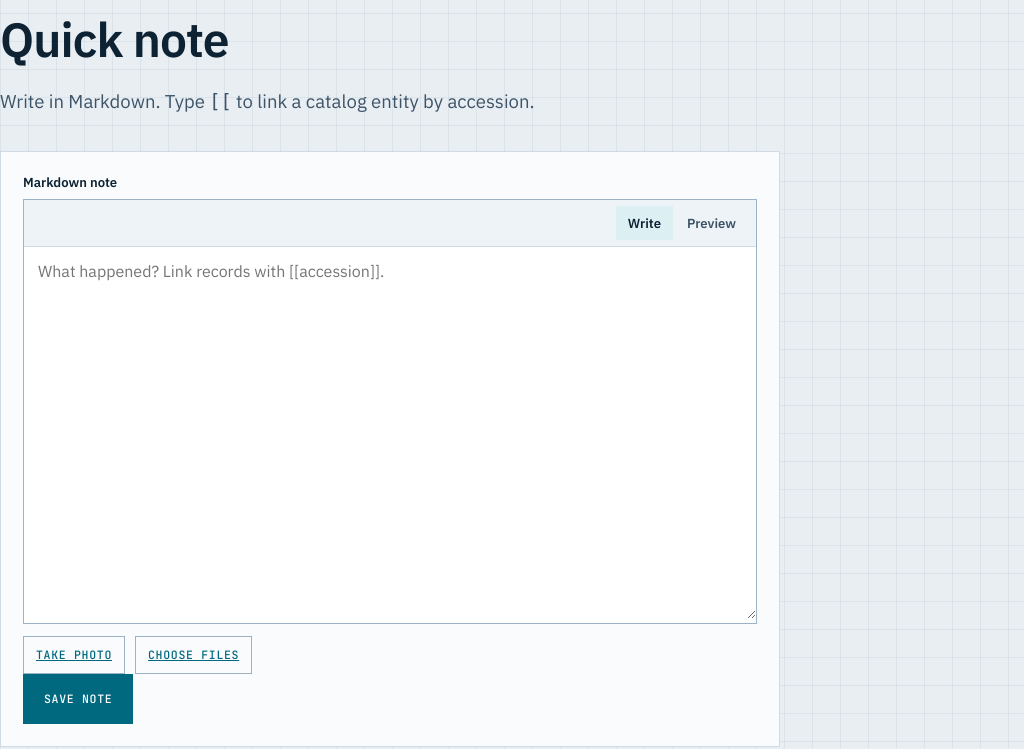
it: QuickNotePage entity references › shows the create error and keeps the draft when the atomic create fails
Replace the text in the text box labelled "Markdown note" with "Measured [ [Array" at (390, 433), box [24, 247, 756, 619]
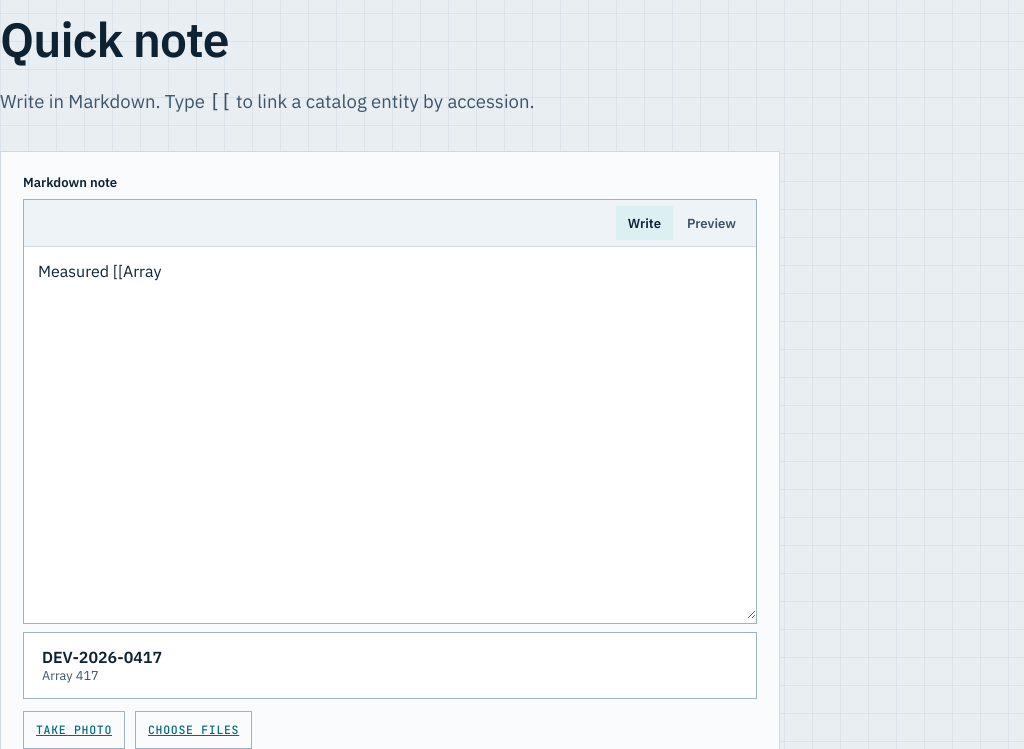
Click the button "DEV-2026-0417 Array 417" at (102, 657), box [30, 639, 750, 692]
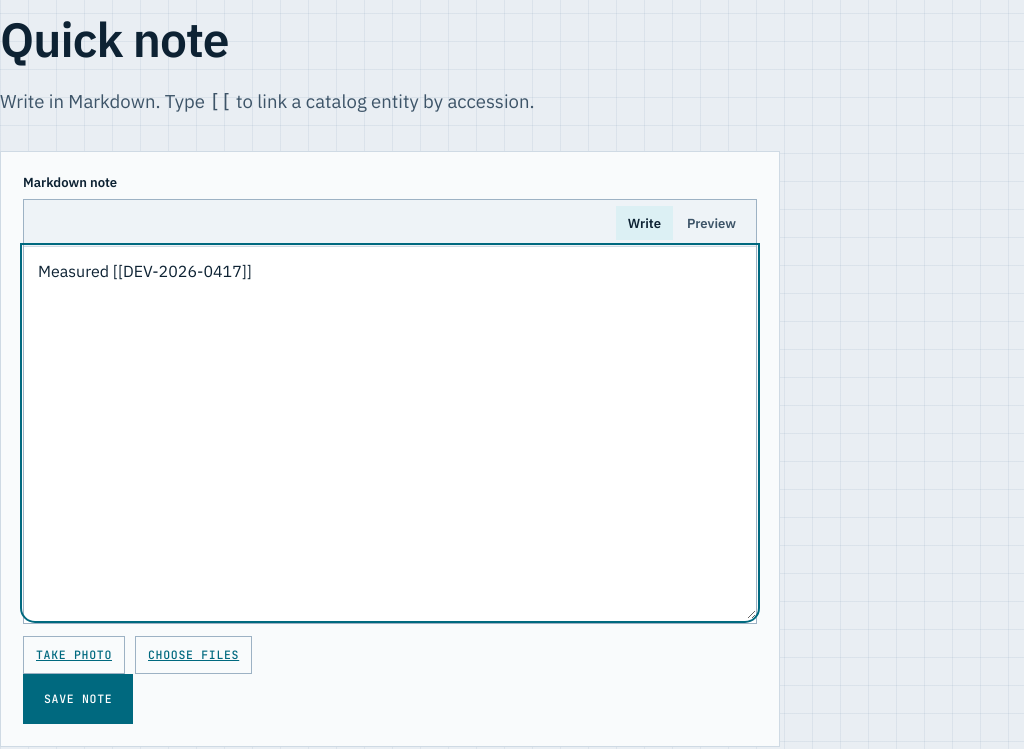
Click the button "Save note" at (78, 699), box [23, 674, 133, 724]
(page scrolled)
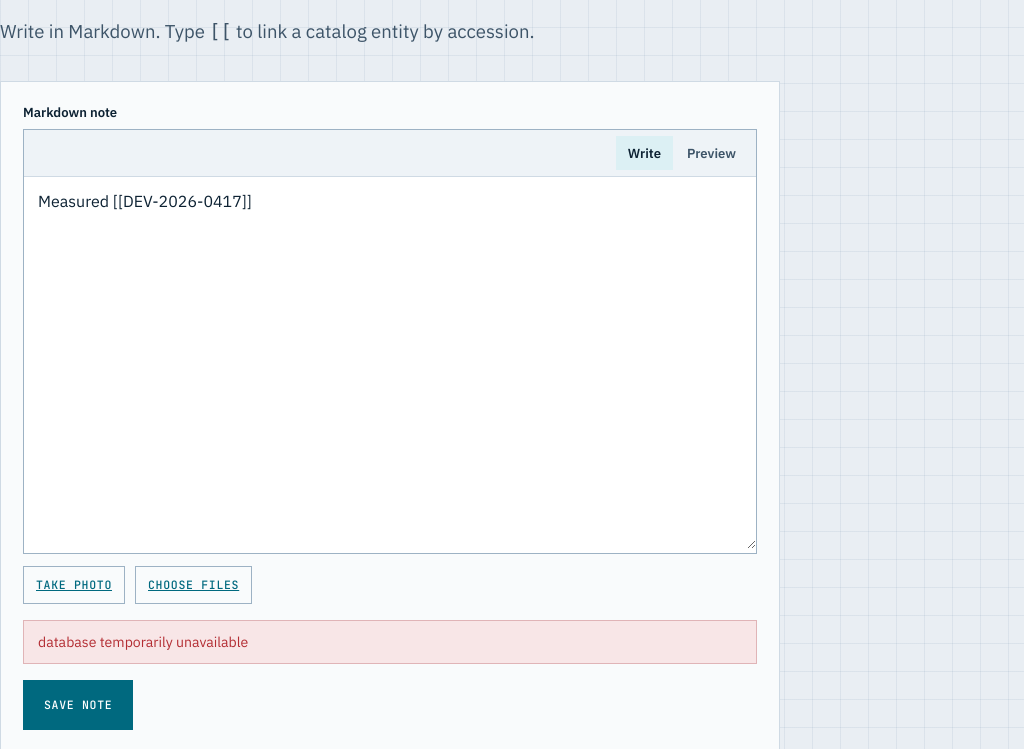
Check: the text box labelled "Markdown note" holds "Measured [ [DEV-2026-0417]]", box [24, 177, 756, 549]
Check: the text "database temporarily unavailable" is shown, box [23, 620, 757, 664]
Click the button "Save note" at (78, 705), box [23, 680, 133, 730]
(page scrolled)
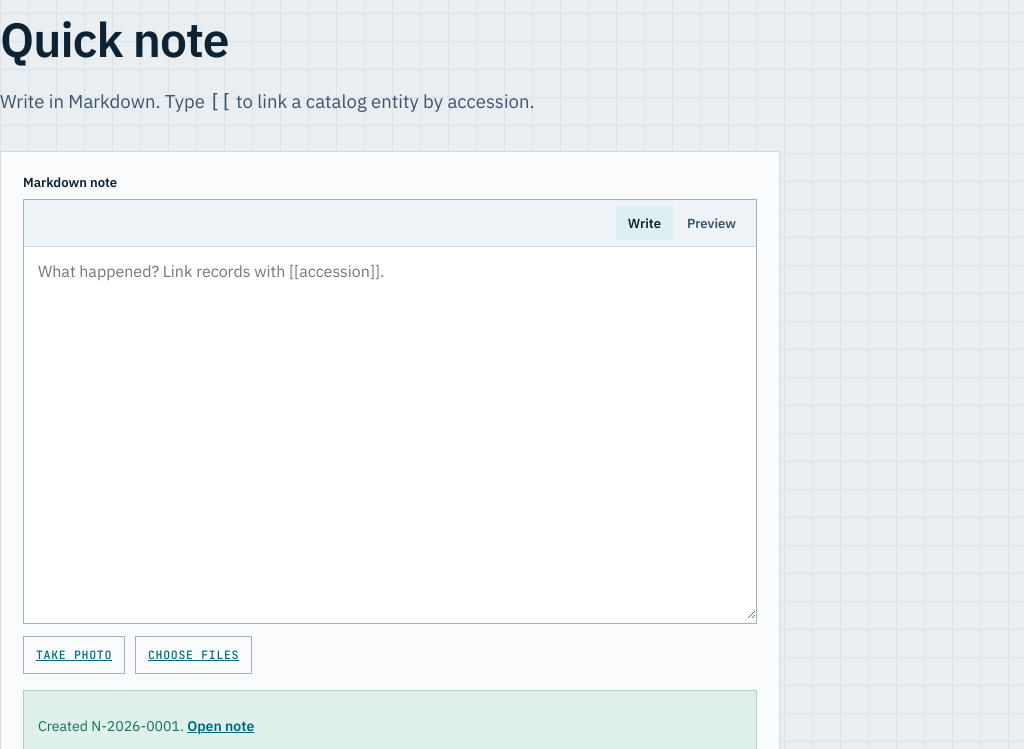
Check: the text "Created N-2026-0001. Open note" is shown, box [38, 717, 254, 735]
